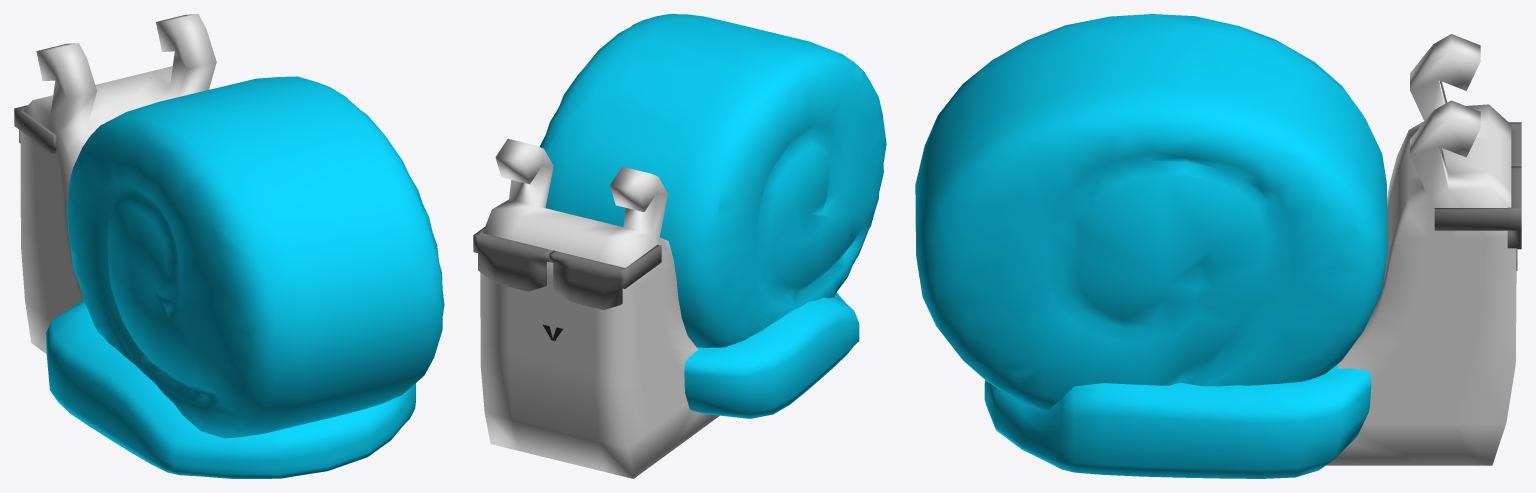
The model's file is demo.glb.
3 renders of one model, left to right at view 1: azimuth 30°, elevation 25°; view 2: azimuth 150°, elevation 25°; view 3: azimuth 270°, elevation 25°, orthographic. The views are drawn at different scales.
Visible parts, largest first — view 1: Cylinder; view 2: Cylinder; view 3: Cylinder.
Part boxes in pixels (bbox=[...]): Cylinder: bbox=[14, 14, 444, 478]; Cylinder: bbox=[473, 14, 886, 478]; Cylinder: bbox=[915, 14, 1521, 478].
Size of the model in its own units: 1.55 by 1.68 by 2.5.
4 materials, 1 textured.
